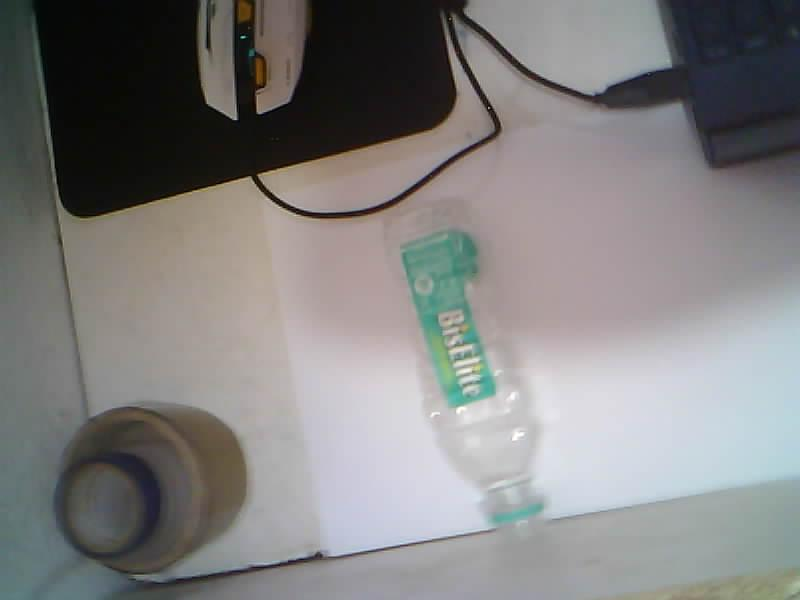non-biodegradable: (385, 208, 543, 536)
